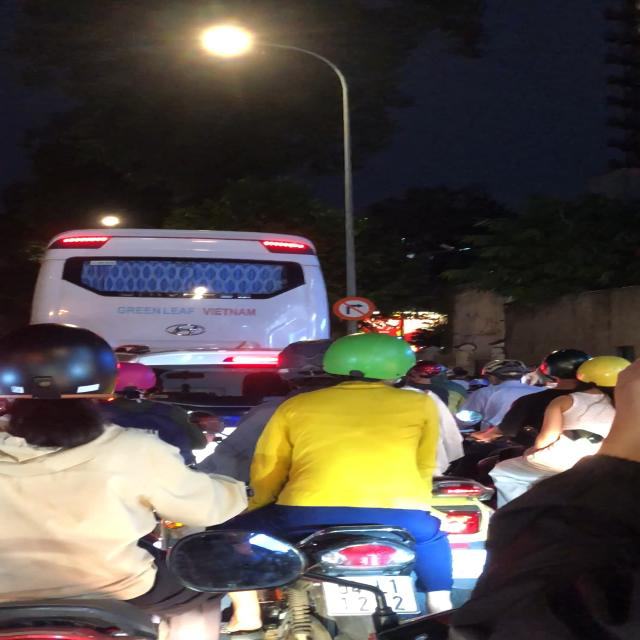Bien bao cam re phai: (332, 296, 381, 322)
